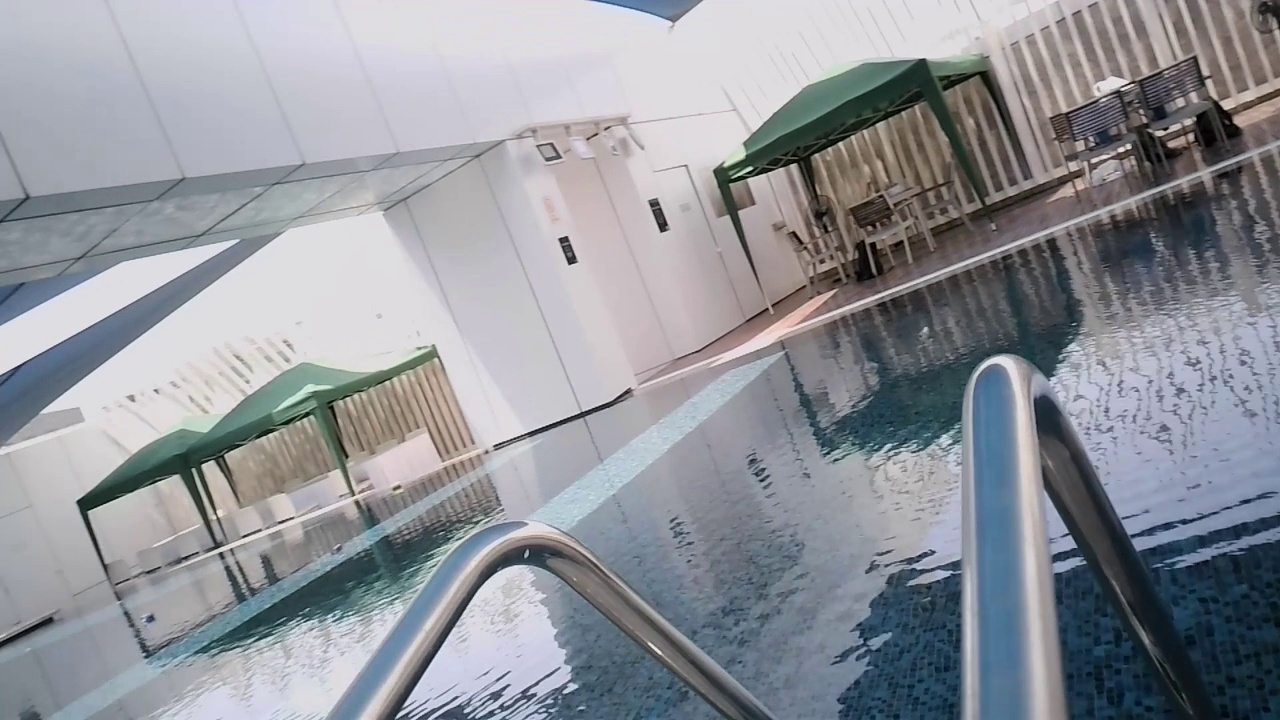debris: (910, 324, 933, 346), (134, 610, 157, 625), (327, 541, 343, 555), (387, 482, 405, 493)
